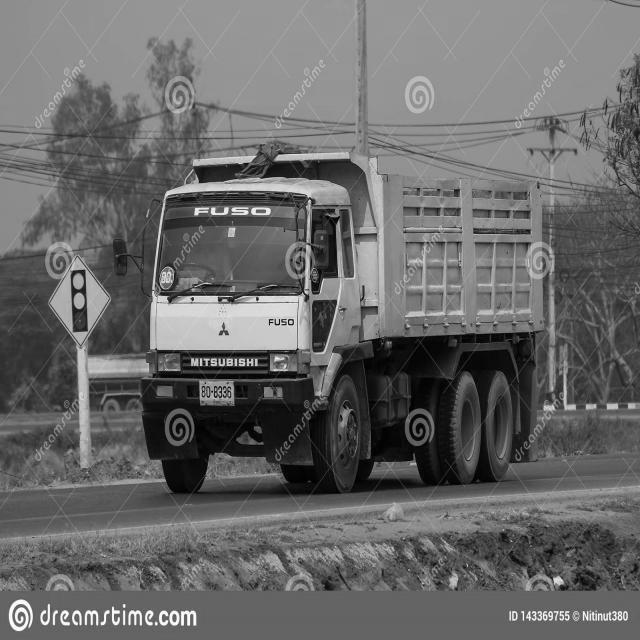truck: (114, 155, 396, 470)
